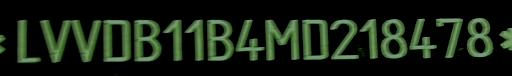letter: (263, 18, 301, 60), (298, 17, 334, 61), (330, 17, 362, 63), (376, 17, 410, 59), (432, 16, 464, 60), (68, 17, 100, 61), (36, 18, 68, 62), (204, 18, 234, 64), (130, 18, 162, 60), (101, 19, 133, 61), (406, 17, 436, 59), (12, 16, 38, 64), (236, 19, 264, 63), (465, 17, 495, 57), (161, 18, 183, 62), (360, 16, 380, 60), (184, 17, 204, 61)
